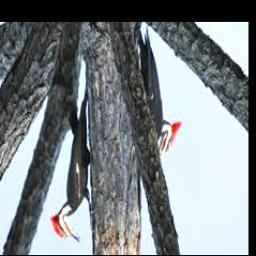Woodpecker: (51, 88, 94, 242), (138, 28, 182, 168)
